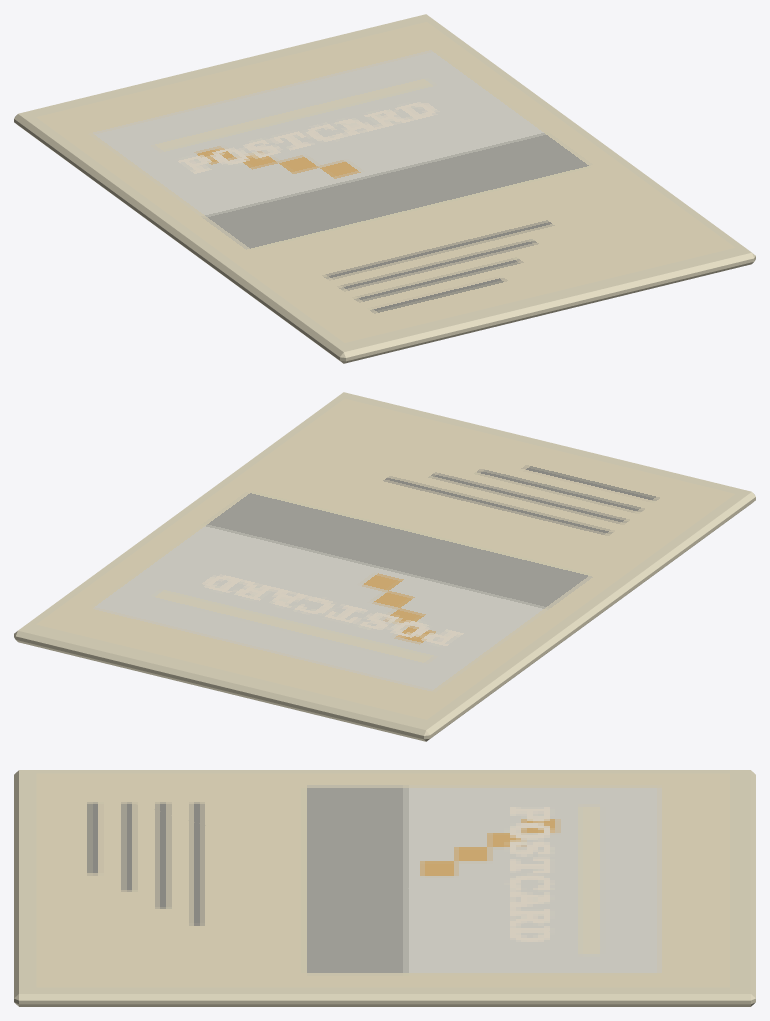
Rendered from postcard.glb.
The picture shows the model from 3 angles, top to bottom: view 1: azimuth 30°, elevation 25°; view 2: azimuth 150°, elevation 25°; view 3: azimuth 270°, elevation 25°; orthographic projection. The views are drawn at different scales.
Parts seen in each view (by area): view 1: block_printed face, block_paper or card stock; view 2: block_printed face, block_paper or card stock; view 3: block_printed face, block_paper or card stock.
Part boxes in pixels (x1,y1,x2,y2): block_printed face: [36, 21, 735, 342]; block_paper or card stock: [14, 14, 755, 363]; block_printed face: [36, 398, 735, 719]; block_paper or card stock: [14, 392, 755, 741]; block_printed face: [36, 773, 729, 987]; block_paper or card stock: [14, 770, 755, 1006].
Bounding box in the file's own units: 0.1105 × 0.00328 × 0.152.
Materials: 1 (1 with a texture image).
